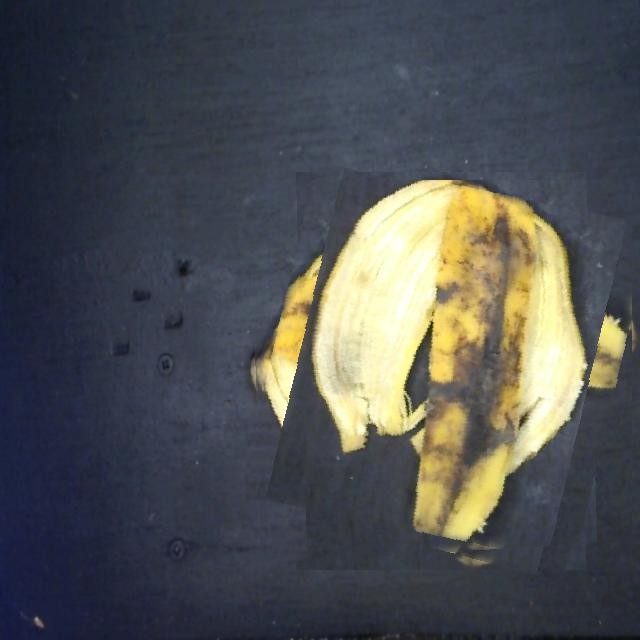biodegradable: (250, 180, 632, 563)
